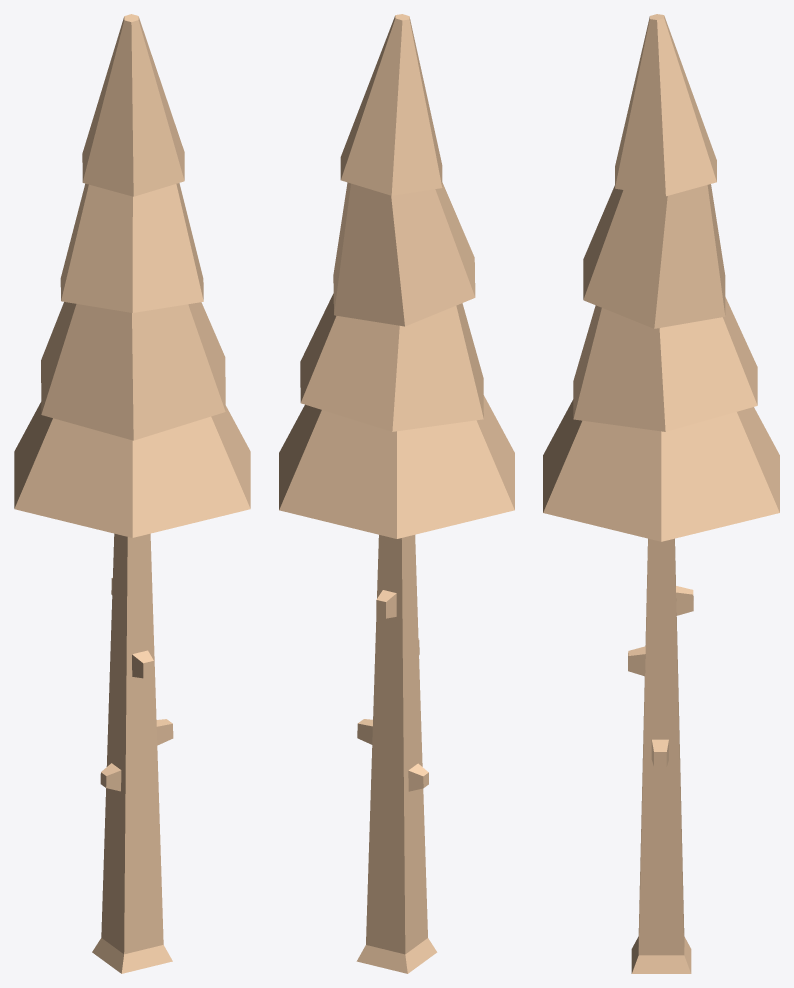
File: tree_pine_tall_detailed.fbx
The picture shows the model from 3 angles, left to right: view 1: azimuth 30°, elevation 25°; view 2: azimuth 150°, elevation 25°; view 3: azimuth 270°, elevation 25°; orthographic projection.
Visible parts, largest first — view 1: tree_pine_tall_detailed; view 2: tree_pine_tall_detailed; view 3: tree_pine_tall_detailed.
Boxes of the visible parts, x1,y1,x2,y2 form: tree_pine_tall_detailed: (14,14,250,973); tree_pine_tall_detailed: (279,14,514,973); tree_pine_tall_detailed: (543,14,779,973).
Size of the model in its own units: 166 by 634 by 144.
